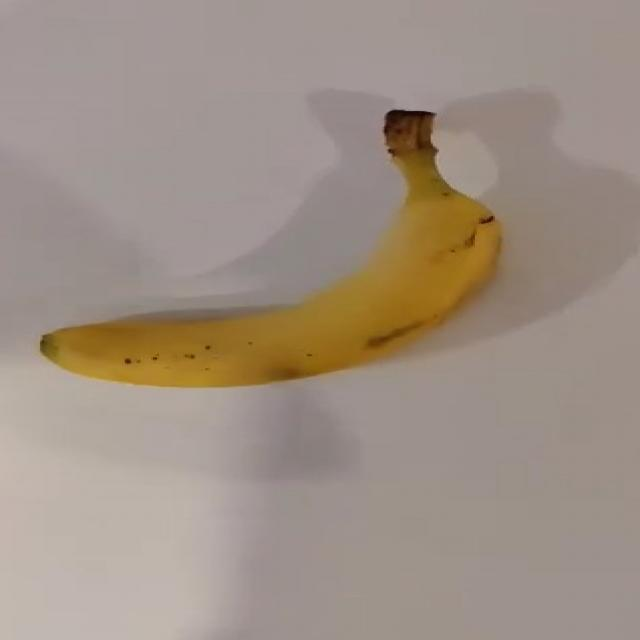Banana: (39, 108, 502, 388)
